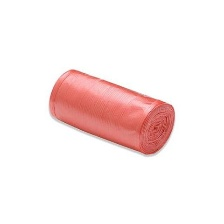plastic_bag: (35, 66, 176, 159)
